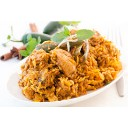briyani: (25, 40, 118, 98)
